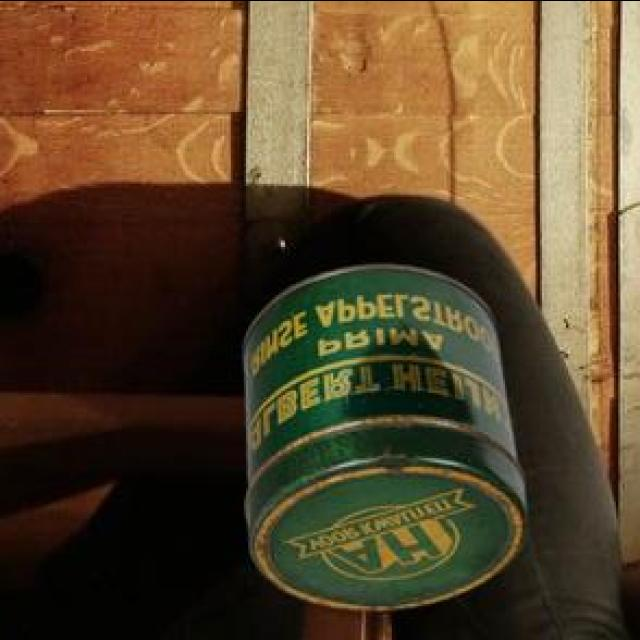logam: (247, 267, 530, 611)
